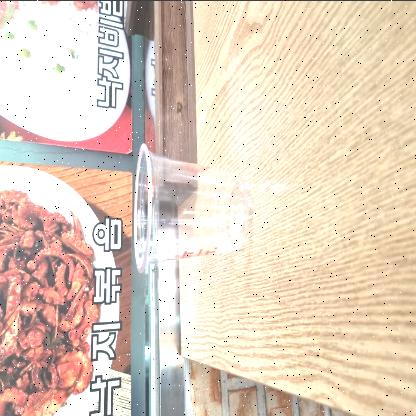Others: (130, 140, 256, 276)
